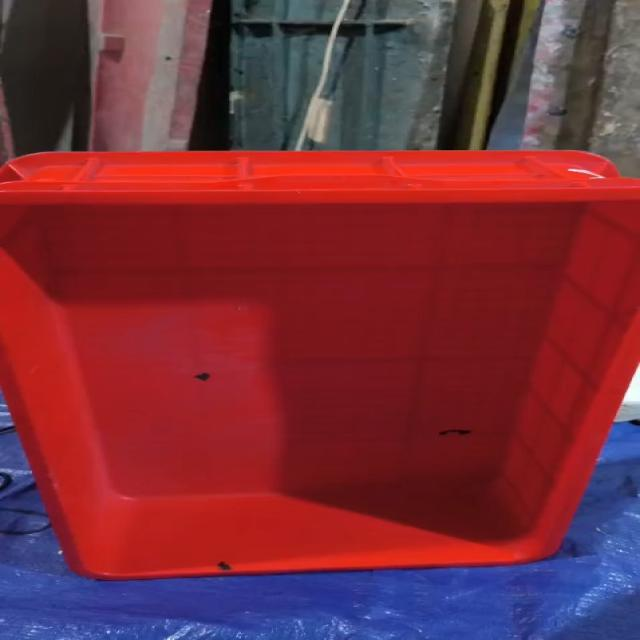red plastic box: (0, 150, 639, 580)
